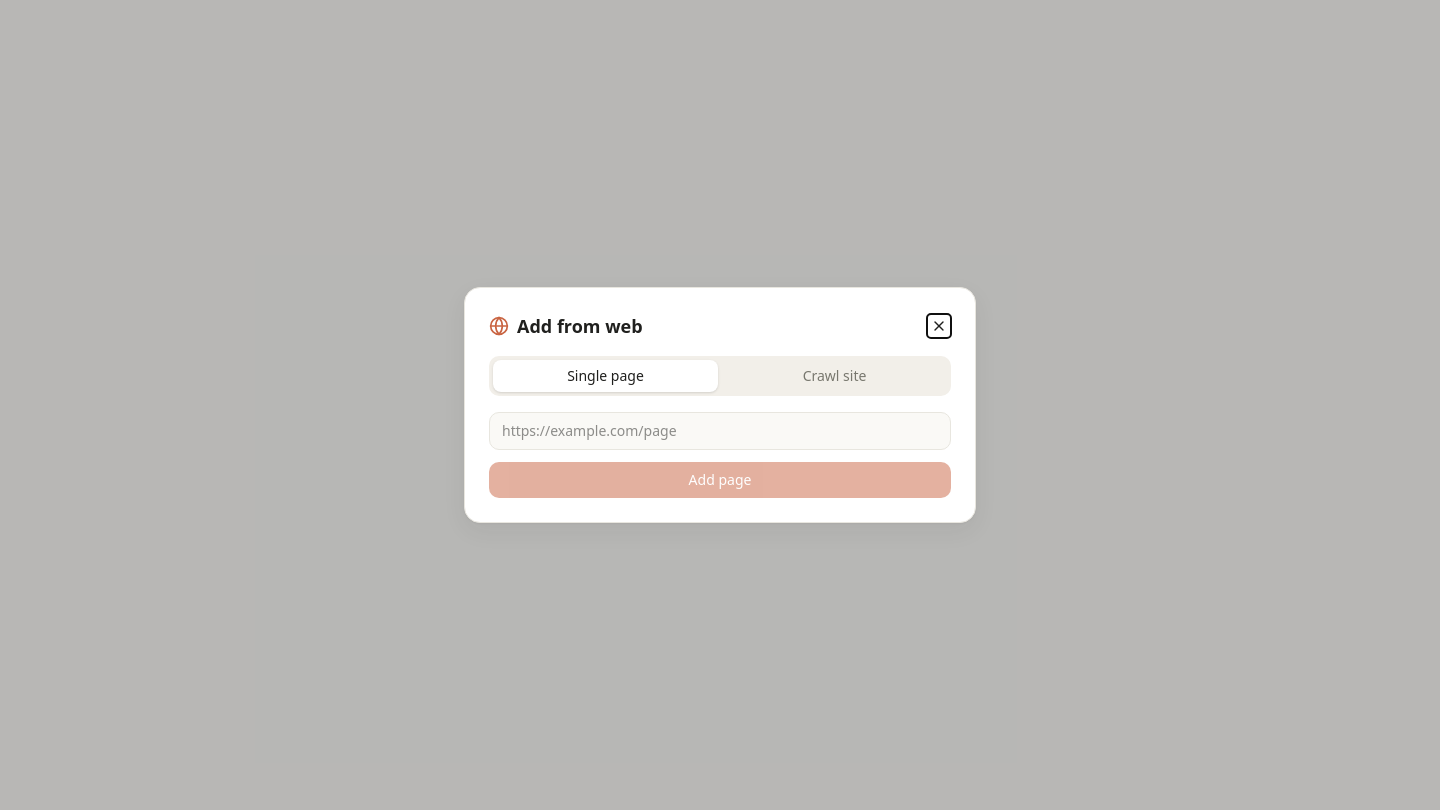
AddFromWebDialog › crawl mode maps then lists discovered pages
The image size is (1440, 810).
Click the tab "Crawl site" at {"x": 834, "y": 376}, box [722,360,947,392]
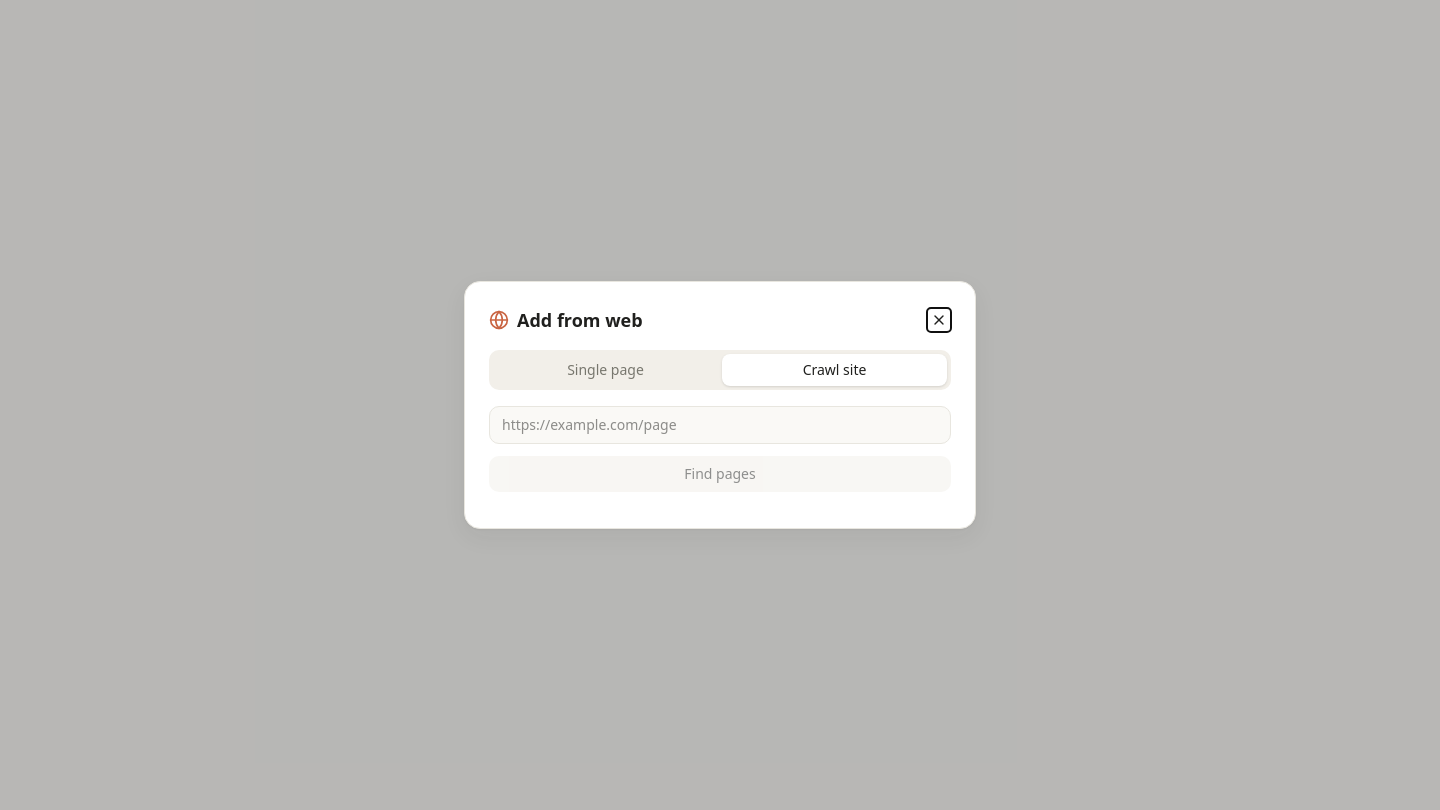
Type "https://x.com" into the field with placeholder "https://example.com/page" at {"x": 720, "y": 425}, box [489,406,951,444]
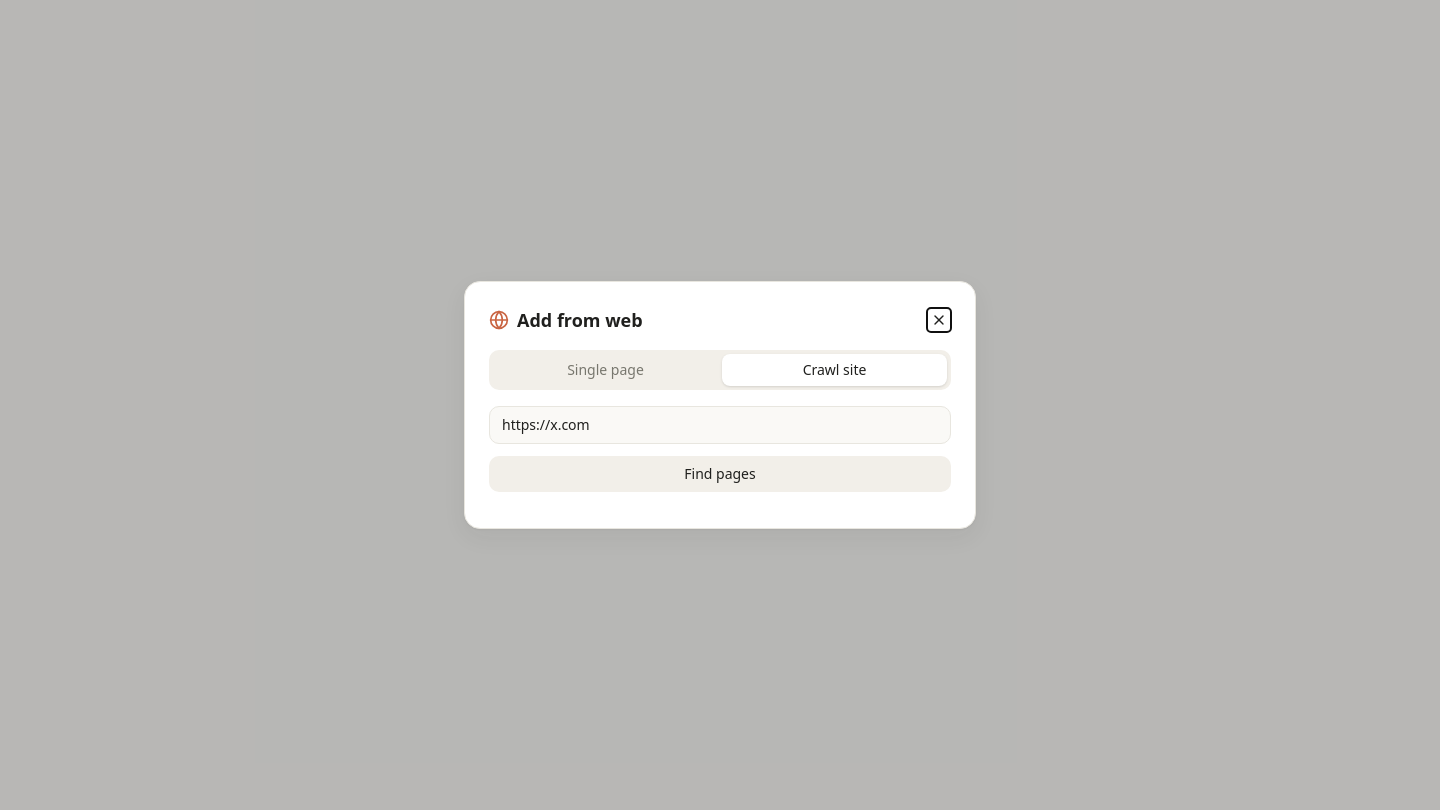
Click the button "Find pages" at {"x": 720, "y": 474}, box [489,456,951,492]
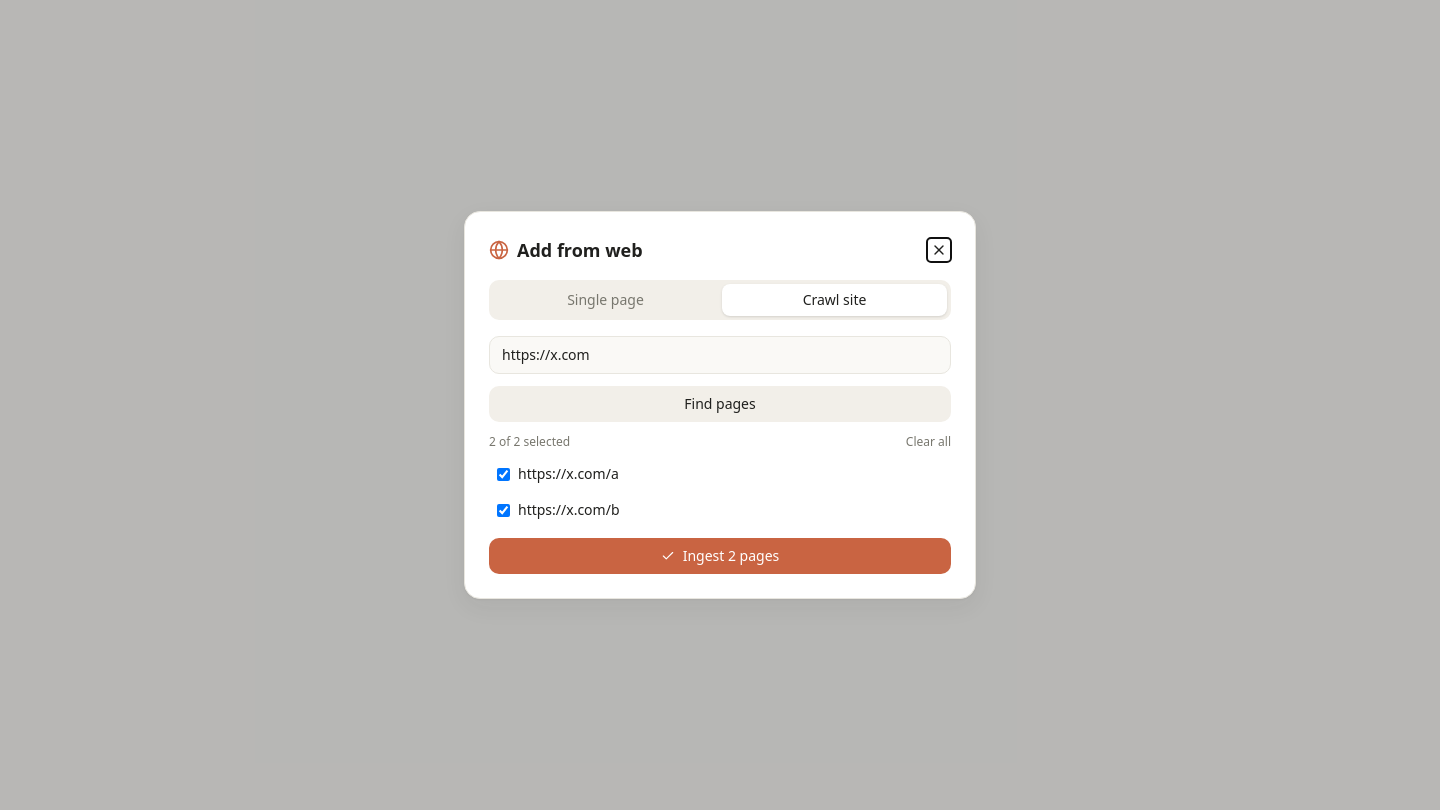
Expected: the text "https://x.com/a" is shown, [518,464,619,484]
